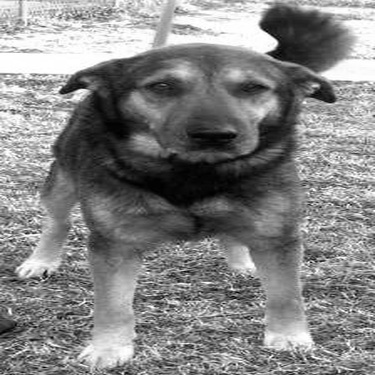dog: (11, 1, 359, 371)
